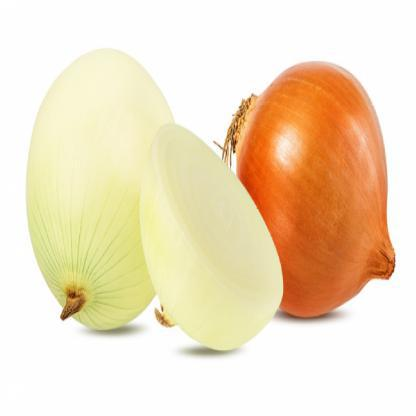onion: (35, 40, 175, 328), (254, 63, 407, 320), (140, 115, 272, 348)
